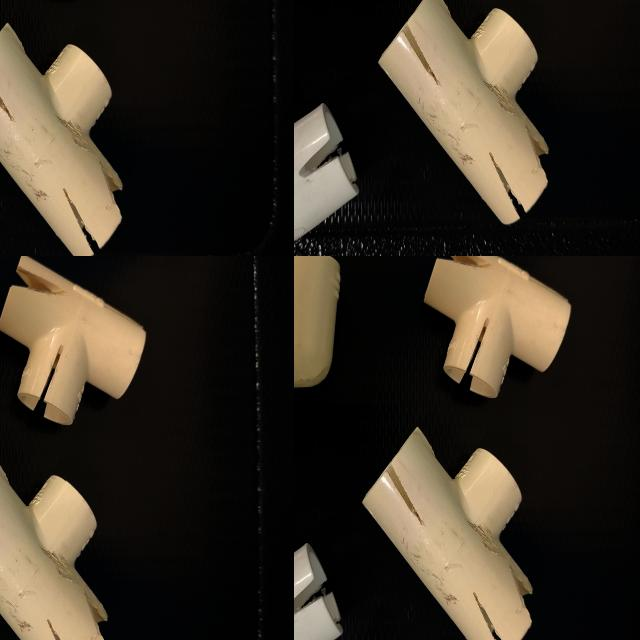Defective: (460, 319, 492, 390), (507, 554, 535, 618), (473, 594, 509, 640), (294, 578, 330, 623), (385, 470, 417, 518), (440, 256, 493, 269)
L Joint: (294, 256, 342, 392)
T Joint: (362, 430, 534, 640), (423, 256, 572, 399)
